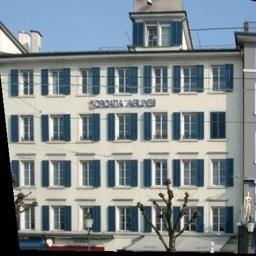building: (0, 0, 244, 237)
